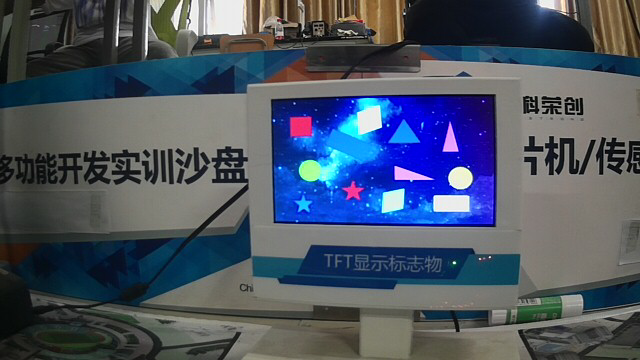graph: (267, 91, 500, 231)
